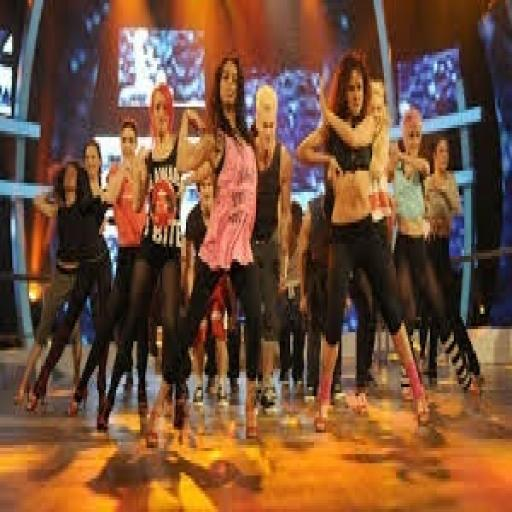dancing: (97, 68, 263, 512), (283, 41, 465, 429), (194, 53, 259, 286)
